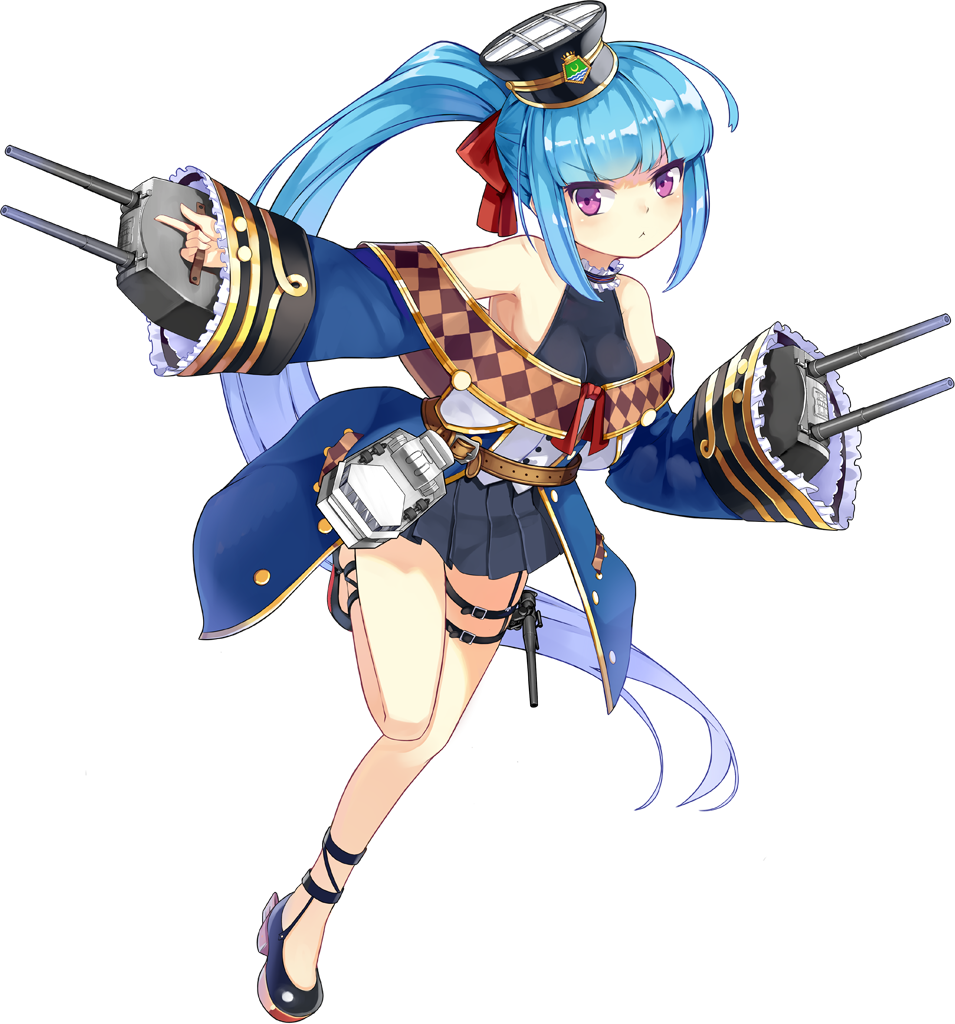person: (291, 18, 732, 843)
